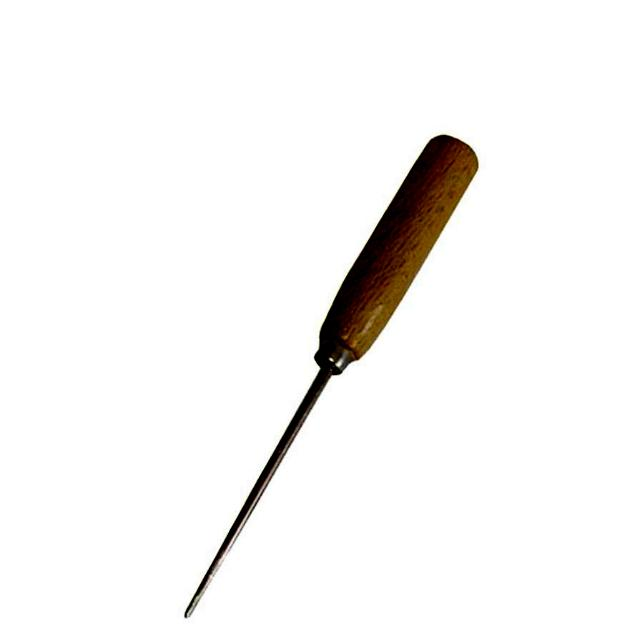ice pick: (182, 132, 482, 620)
